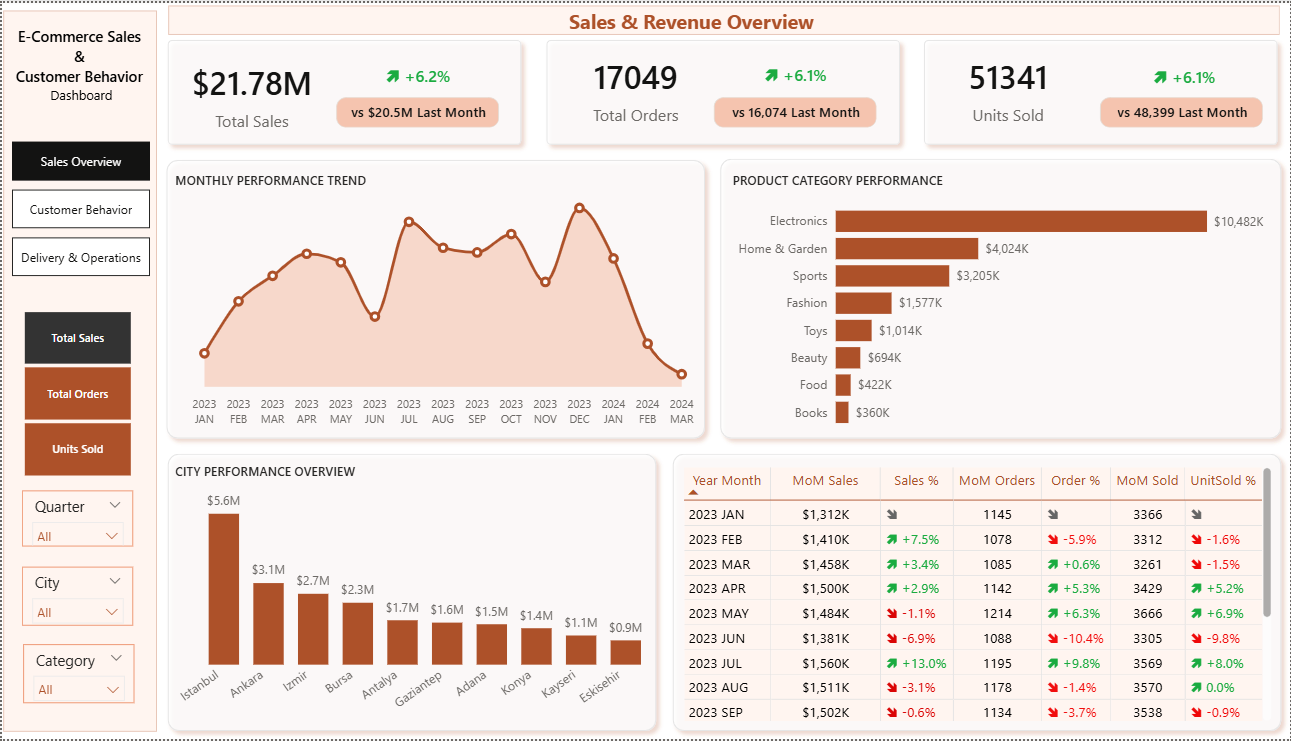

What the dashboard file says about the page in this screenshot:
{"tool":"powerbi","page":{"name":"Sales Overview","canvas":[1400,800],"ordinal":0},"visuals":[{"type":"shape","box":[1.4,8.2,167.1,784],"z":0},{"type":"shape","box":[169.8,161.7,603.3,320.7],"z":2000},{"type":"shape","box":[171.2,481,548.9,319.3],"z":3000},{"type":"shape","box":[771.7,160.6,627.7,322],"z":4000},{"type":"textbox","box":[1.4,20.4,169.8,130.4],"z":5000},{"type":"lineChart","title":"MONTHLY PERFORMANCE TREND","fields":{"Y":["ecommerce_customer_behavior_dataset.Total Sales"],"Category":["date_table.Year Month"]},"box":[183.4,183.4,577.4,284],"z":6000},{"type":"clusteredBarChart","title":"PRODUCT CATEGORY PERFORMANCE","fields":{"Y":["ecommerce_customer_behavior_dataset.Total Sales"],"Category":["ecommerce_customer_behavior_dataset.Product_Category"]},"box":[789.4,183.7,587,290.8],"z":7000},{"type":"clusteredColumnChart","title":"CITY PERFORMANCE OVERVIEW","fields":{"Y":["ecommerce_customer_behavior_dataset.Total Sales"],"Category":["ecommerce_customer_behavior_dataset.City"]},"box":[183.4,500,536.7,289.4],"z":8000},{"type":"slicer","fields":{"Values":["Parameter.Parameter"]},"box":[0,328.8,169.8,191.6],"z":9000},{"type":"shape","box":[720.1,481,679.4,319.3],"z":10000},{"type":"tableEx","fields":{"Values":["date_table.Year Month","ecommerce_customer_behavior_dataset.Total Sales","ecommerce_customer_behavior_dataset.Sales growth %","ecommerce_customer_behavior_dataset.Total Orders","ecommerce_customer_behavior_dataset.Orders growth %","ecommerce_customer_behavior_dataset.Units Sold","ecommerce_customer_behavior_dataset.UnitSold growth %"]},"box":[735.1,500,649.5,285.3],"z":11000},{"type":"shape","box":[171.2,31.3,402.2,131.8],"z":12000},{"type":"shape","box":[582.9,31.6,402.2,131.8],"z":13000},{"type":"shape","box":[993.2,31.6,402.2,131.8],"z":14000},{"type":"pageNavigator","box":[10.9,150.8,150.8,148.1],"z":15000},{"type":"slicer","fields":{"Values":["date_table.Quarter"]},"box":[21.7,529.9,120.9,61.1],"z":16000},{"type":"cardVisual","fields":{"Data":["ecommerce_customer_behavior_dataset.Total Sales"]},"box":[171.2,42.1,201.1,118.2],"z":17000},{"type":"cardVisual","fields":{"Data":["ecommerce_customer_behavior_dataset.Last Month Sales"]},"box":[346.5,85.6,212,67.9],"z":18000},{"type":"cardVisual","fields":{"Data":["ecommerce_customer_behavior_dataset.Sales growth %"]},"box":[394,51.6,116.8,58.4],"z":19000},{"type":"cardVisual","fields":{"Data":["ecommerce_customer_behavior_dataset.Total Orders"]},"box":[588.3,35.4,201.1,118.2],"z":20000},{"type":"cardVisual","fields":{"Data":["ecommerce_customer_behavior_dataset.Last Month Orders"]},"box":[756.8,85.6,212,67.9],"z":21000},{"type":"cardVisual","fields":{"Data":["ecommerce_customer_behavior_dataset.Orders growth %"]},"box":[804.4,50.3,116.8,58.4],"z":22000},{"type":"cardVisual","fields":{"Data":["ecommerce_customer_behavior_dataset.Units Sold"]},"box":[993.2,35.3,201.1,118.2],"z":23000},{"type":"cardVisual","fields":{"Data":["ecommerce_customer_behavior_dataset.Last Month Units"]},"box":[1176.6,85.6,212,67.9],"z":24000},{"type":"cardVisual","fields":{"Data":["ecommerce_customer_behavior_dataset.UnitSold growth %"]},"box":[1226.9,53,116.8,58.4],"z":25000},{"type":"slicer","fields":{"Values":["ecommerce_customer_behavior_dataset.City"]},"box":[21.7,612.8,120.9,63.9],"z":26000},{"type":"slicer","fields":{"Values":["ecommerce_customer_behavior_dataset.Product_Category"]},"box":[23.1,697,120.9,64],"z":27000},{"type":"shape","box":[181.1,3,1208.3,32],"z":27500},{"type":"textbox","box":[611.4,0,524.5,50.3],"z":28000}]}

Visuals, with their boxes in screenshot pixels (x1, y1, x2, y2), scaled from the page's 1400x800 canvas onto the 1291x741 screenshot:
shape: x1=1, y1=8, x2=155, y2=734
shape: x1=157, y1=150, x2=713, y2=447
shape: x1=158, y1=446, x2=664, y2=740
shape: x1=712, y1=149, x2=1290, y2=447
textbox: x1=1, y1=19, x2=158, y2=140
"MONTHLY PERFORMANCE TREND" lineChart: x1=169, y1=170, x2=702, y2=433
"PRODUCT CATEGORY PERFORMANCE" clusteredBarChart: x1=728, y1=170, x2=1269, y2=440
"CITY PERFORMANCE OVERVIEW" clusteredColumnChart: x1=169, y1=463, x2=664, y2=731
slicer - Parameter.Parameter: x1=0, y1=305, x2=157, y2=482
shape: x1=664, y1=446, x2=1290, y2=740
tableEx - date_table.Year Month x ecommerce_customer_behavior_dataset.Total Sales: x1=678, y1=463, x2=1277, y2=727
shape: x1=158, y1=29, x2=529, y2=151
shape: x1=538, y1=29, x2=908, y2=151
shape: x1=916, y1=29, x2=1287, y2=151
pageNavigator: x1=10, y1=140, x2=149, y2=277
slicer - date_table.Quarter: x1=20, y1=491, x2=131, y2=547
cardVisual - ecommerce_customer_behavior_dataset.Total Sales: x1=158, y1=39, x2=343, y2=148
cardVisual - ecommerce_customer_behavior_dataset.Last Month Sales: x1=320, y1=79, x2=515, y2=142
cardVisual - ecommerce_customer_behavior_dataset.Sales growth %: x1=363, y1=48, x2=471, y2=102
cardVisual - ecommerce_customer_behavior_dataset.Total Orders: x1=542, y1=33, x2=728, y2=142
cardVisual - ecommerce_customer_behavior_dataset.Last Month Orders: x1=698, y1=79, x2=893, y2=142
cardVisual - ecommerce_customer_behavior_dataset.Orders growth %: x1=742, y1=47, x2=849, y2=101
cardVisual - ecommerce_customer_behavior_dataset.Units Sold: x1=916, y1=33, x2=1101, y2=142
cardVisual - ecommerce_customer_behavior_dataset.Last Month Units: x1=1085, y1=79, x2=1280, y2=142
cardVisual - ecommerce_customer_behavior_dataset.UnitSold growth %: x1=1131, y1=49, x2=1239, y2=103
slicer - ecommerce_customer_behavior_dataset.City: x1=20, y1=568, x2=131, y2=627
slicer - ecommerce_customer_behavior_dataset.Product_Category: x1=21, y1=646, x2=133, y2=705
shape: x1=167, y1=3, x2=1281, y2=32
textbox: x1=564, y1=0, x2=1047, y2=47
